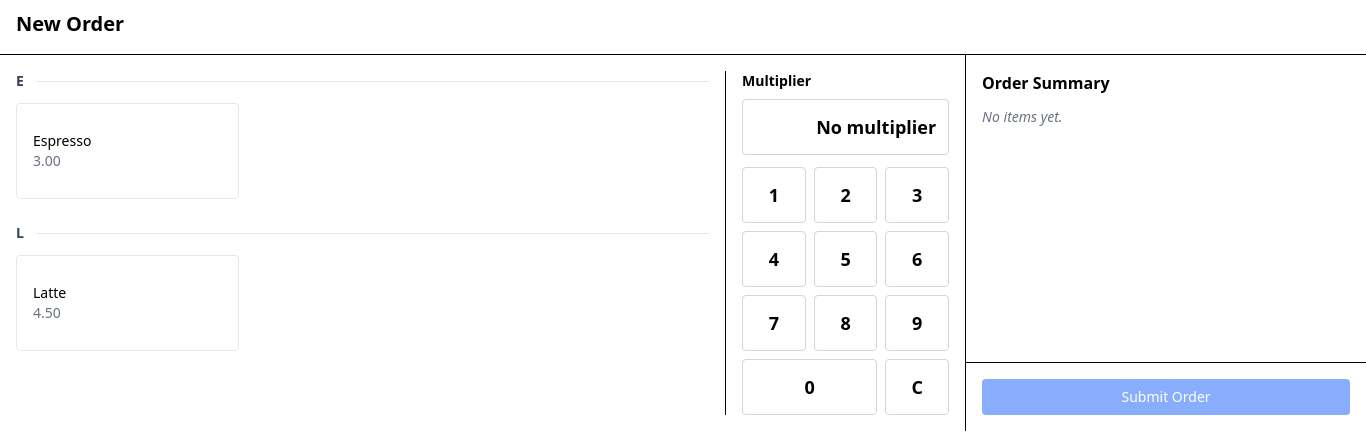
it: Order › increases quantity when same article is tapped multiple times
Click the button "Espresso 3.00": {"x": 128, "y": 151} [16,103,239,199]
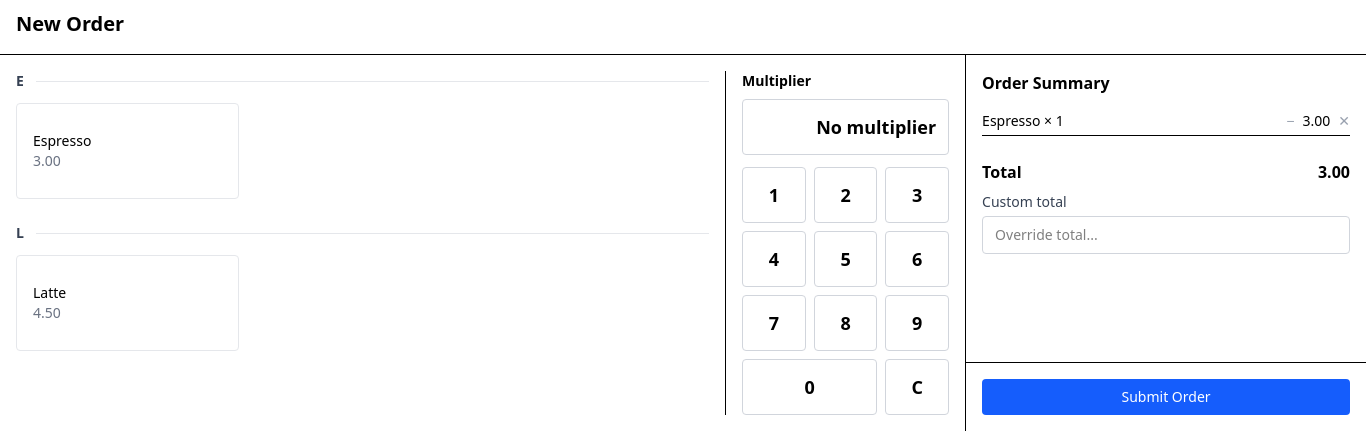
Click the button "Espresso 3.00": {"x": 128, "y": 151} [16,103,239,199]
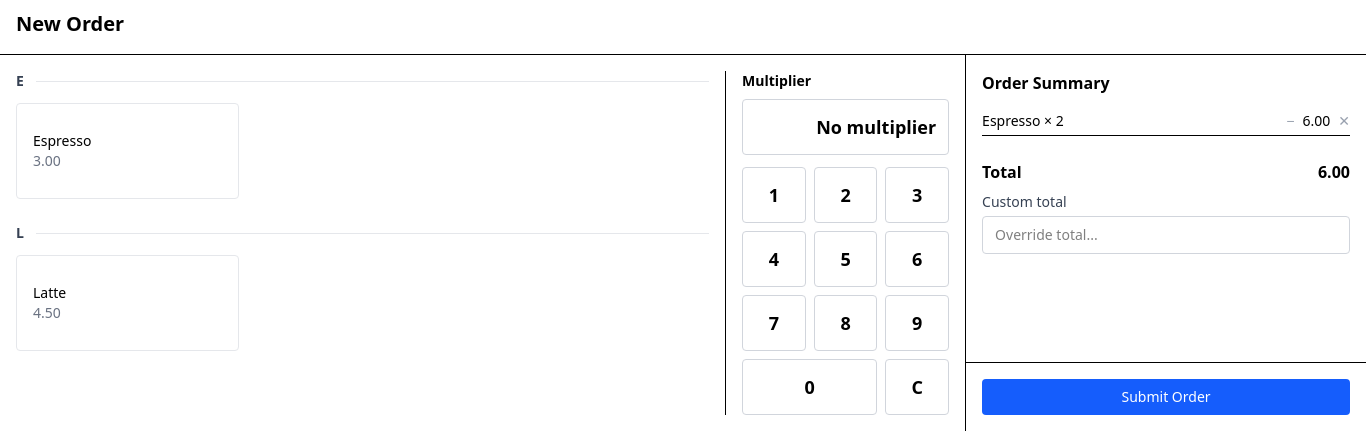
Now the text "Espresso × 2" is shown, box [982,111,1064,131]
